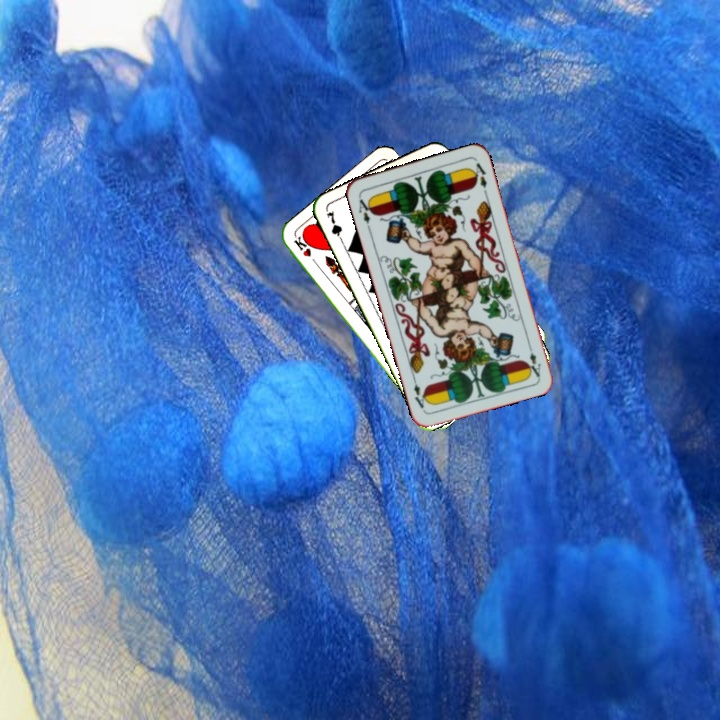EA: (354, 192, 376, 232), (524, 339, 543, 379)
G7: (323, 207, 346, 246)
HK: (290, 232, 321, 268)
